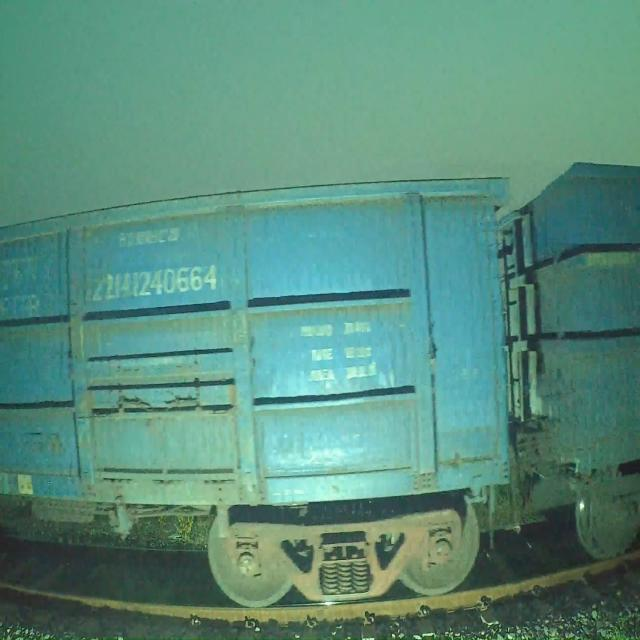WAgon-uic: (0, 177, 514, 608), (444, 160, 640, 554)
uic: (82, 257, 225, 302)
